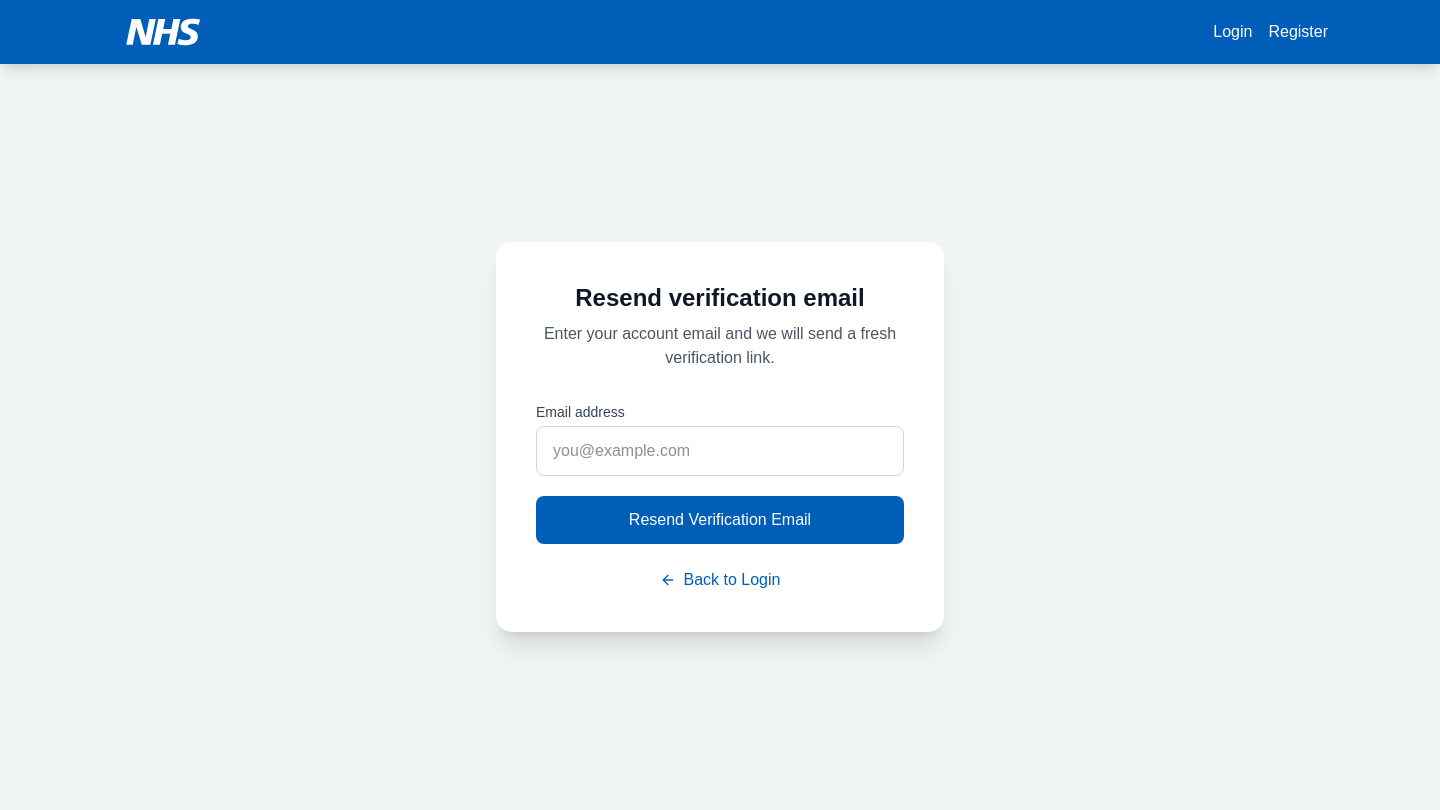
Test: ResendVerificationPage › shows fallback error for non-Error exceptions
The width and height of the screenshot is (1440, 810).
Step 1. Type "test@example.com" into the field labelled "Email address" → (720, 451), box [536,426,904,476]
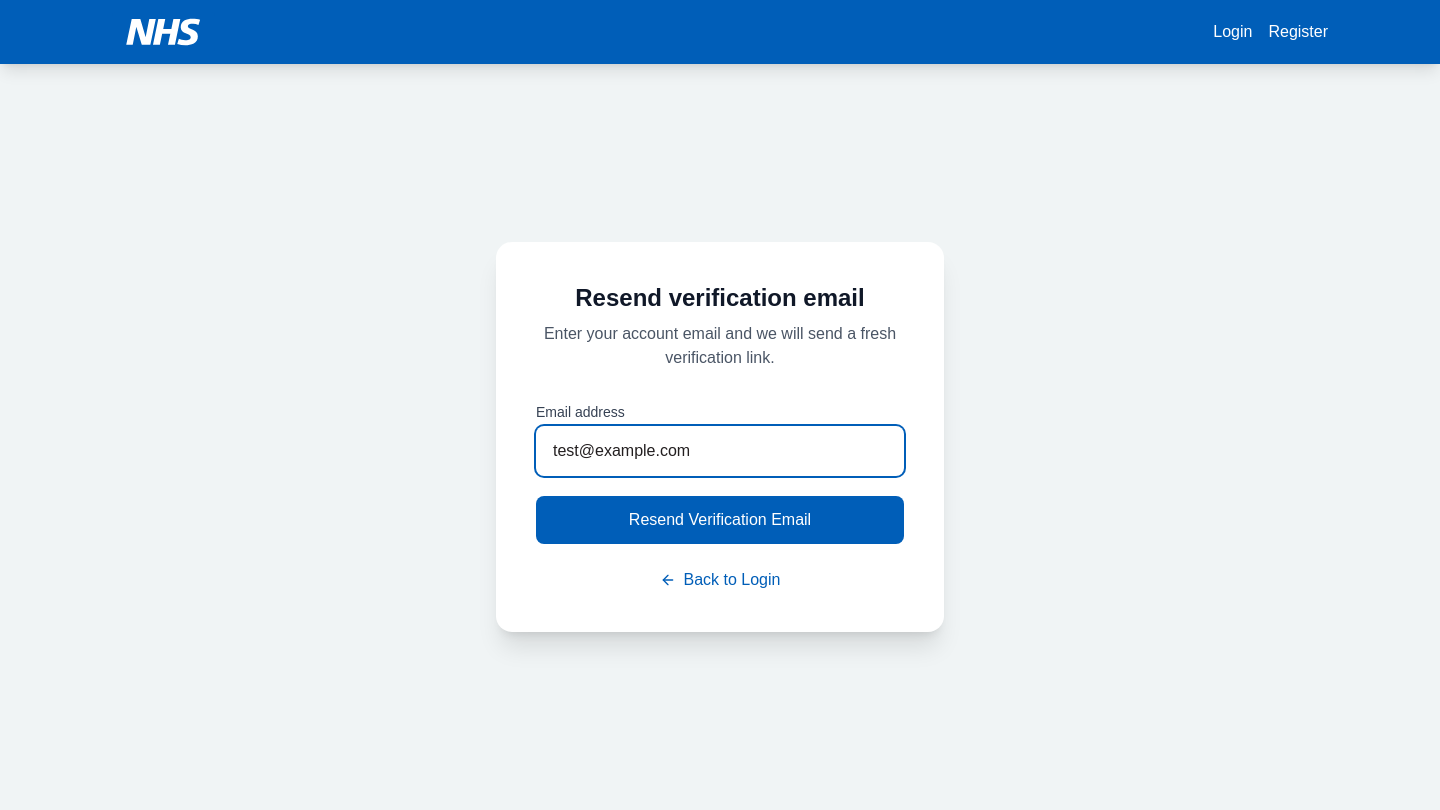
Step 2. Click the button "Resend Verification Email" → click(720, 520), box [536,496,904,544]
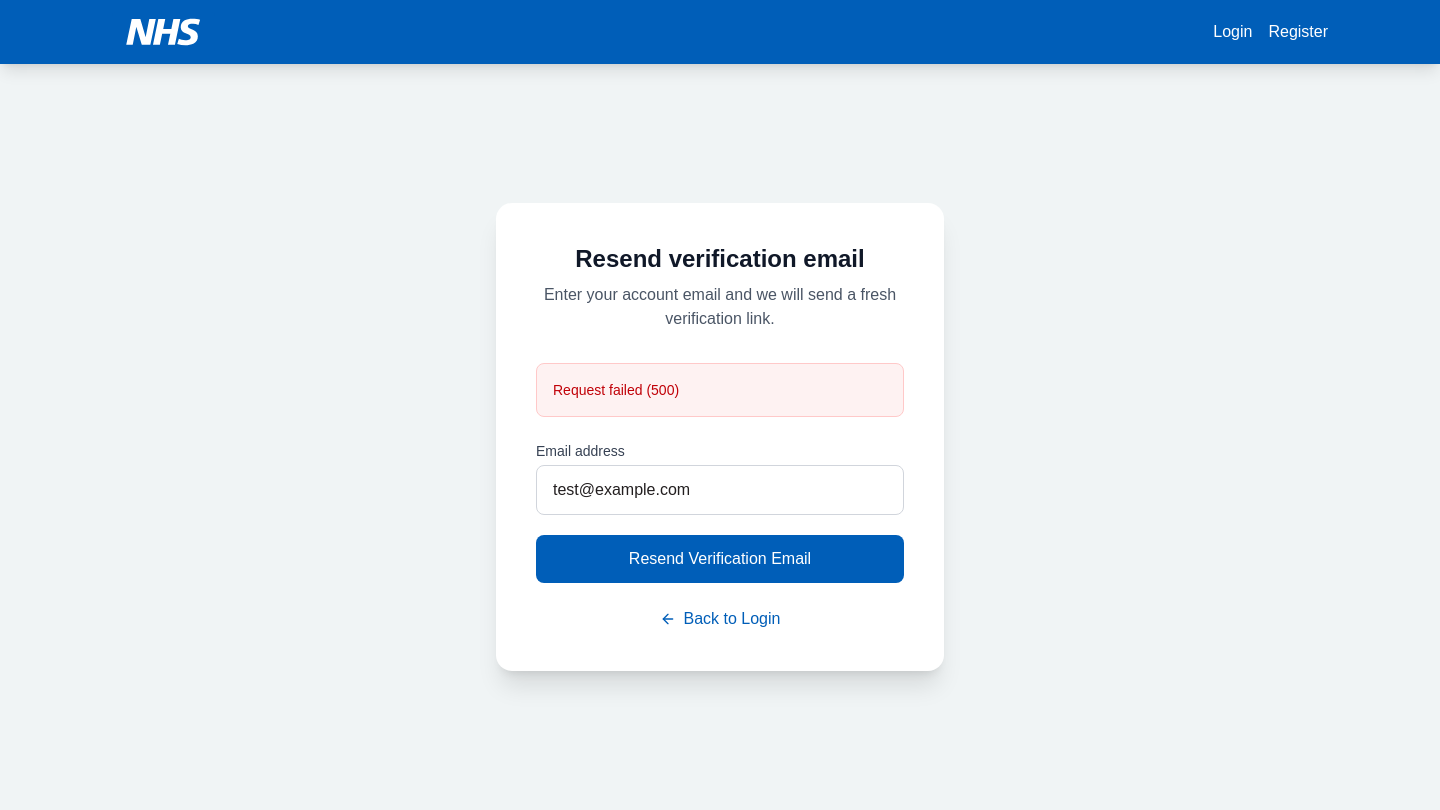
Result: the text "Request failed (500)" is shown at [536,363,904,417]
